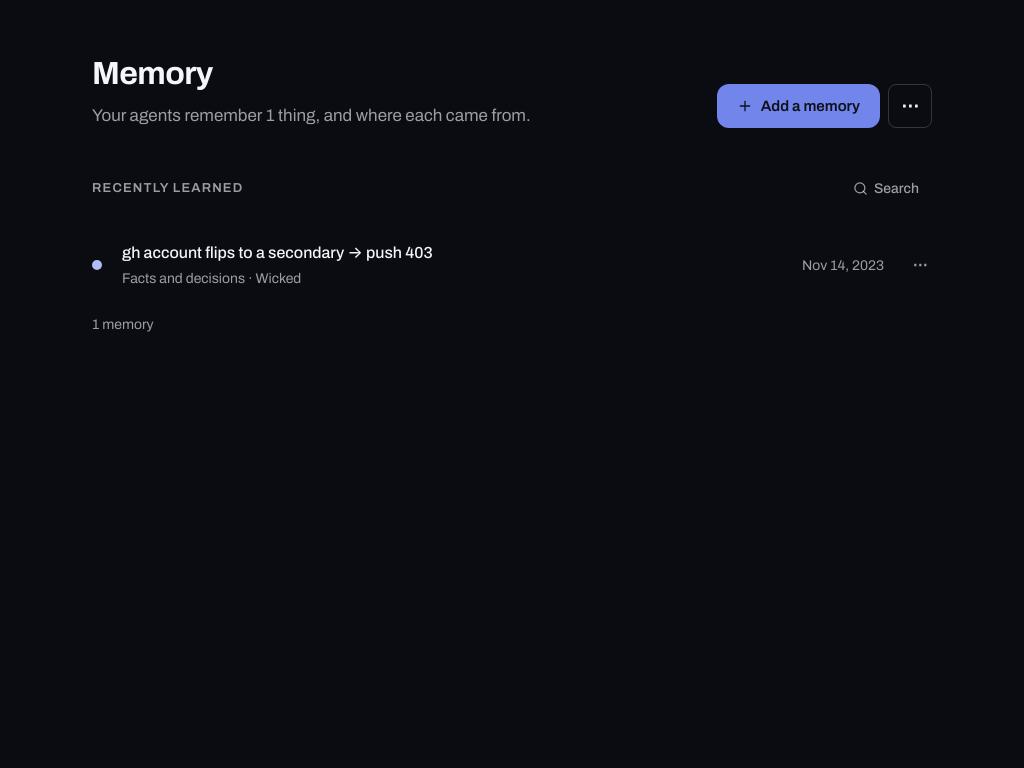
Test: MemoryPage — Add a memory (a proposal you approve as you add it) › files the words as a proposal, approves it, and lists the new memory
The image size is (1024, 768).
Click the button with test id "memory-add" at (798, 106), box [717,84,880,128]
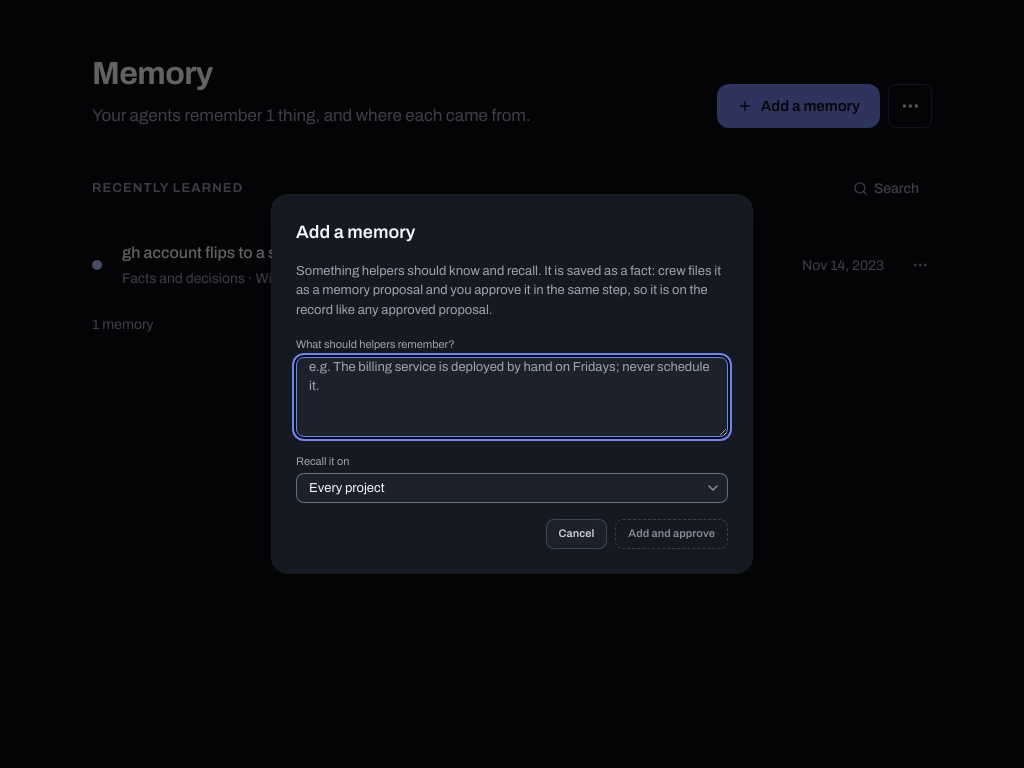
Check: the dialog with test id "memory-add-dialog" shows "files it as a memory proposal and you approve it in the same step", box [296,264,721,317]
Check: the button with test id "memory-add-save" is disabled, box [615,519,728,549]
Type "Deploys freeze on Fridays" into the text box with test id "memory-add-text" at (512, 397), box [296,357,728,437]
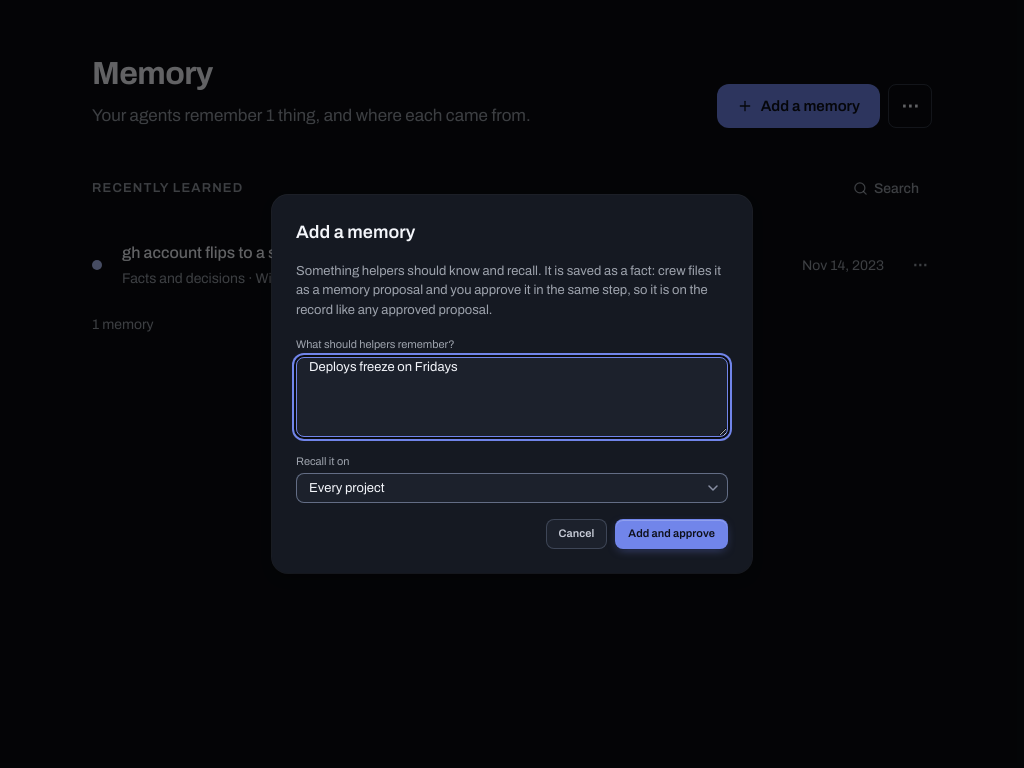
Select "Wicked" in the dropdown with test id "memory-add-project" at (512, 488), box [296,473,728,503]
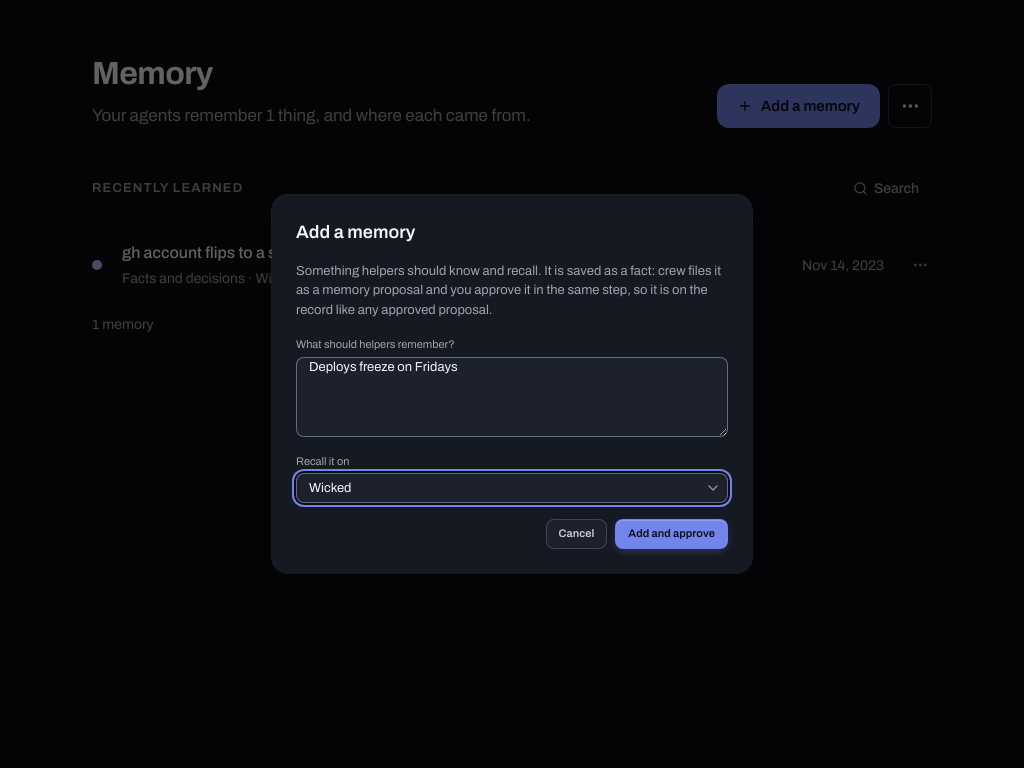
Click the button with test id "memory-add-save" at (672, 534), box [615,519,728,549]
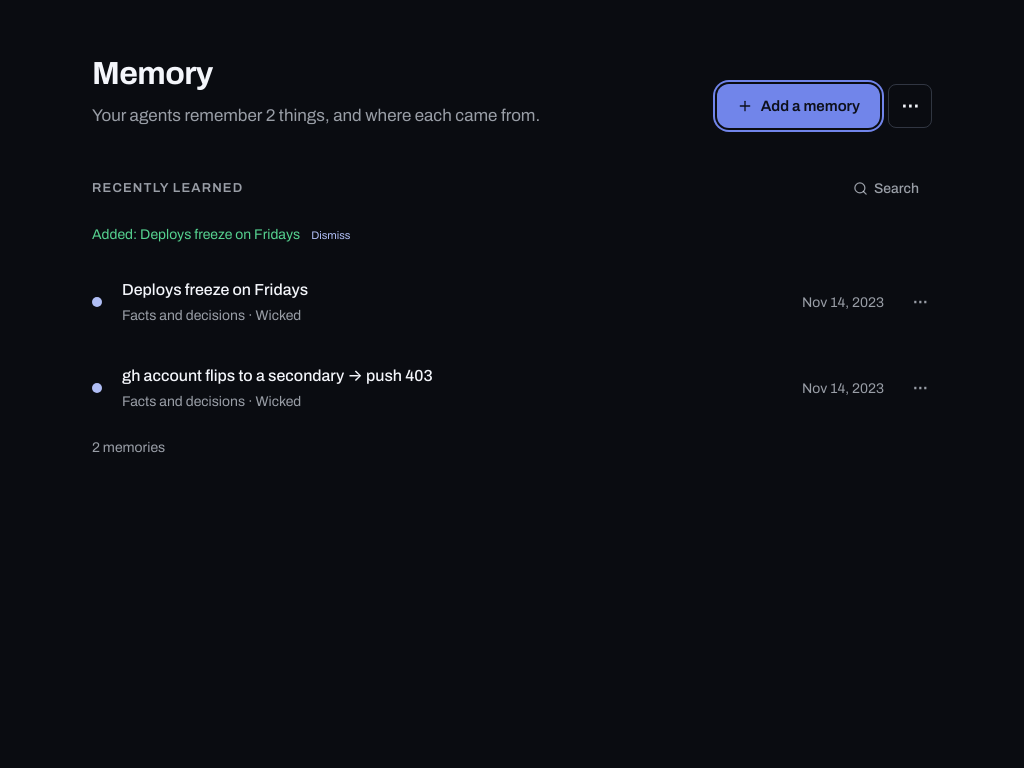
Check: the message with test id "memories-note" shows "Added: Deploys freeze on Fridays", box [92,227,300,242]
Check: the dialog with test id "memory-add-dialog" is gone
Check: the message with test id "memory-content" shows "Deploys freeze on Fridays", box [92,227,300,242]
